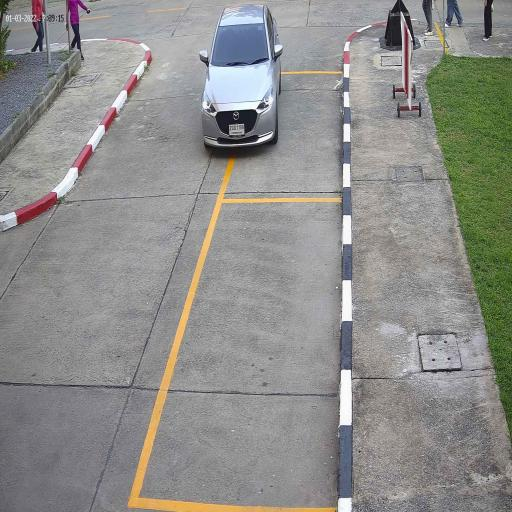car: (200, 4, 283, 154)
